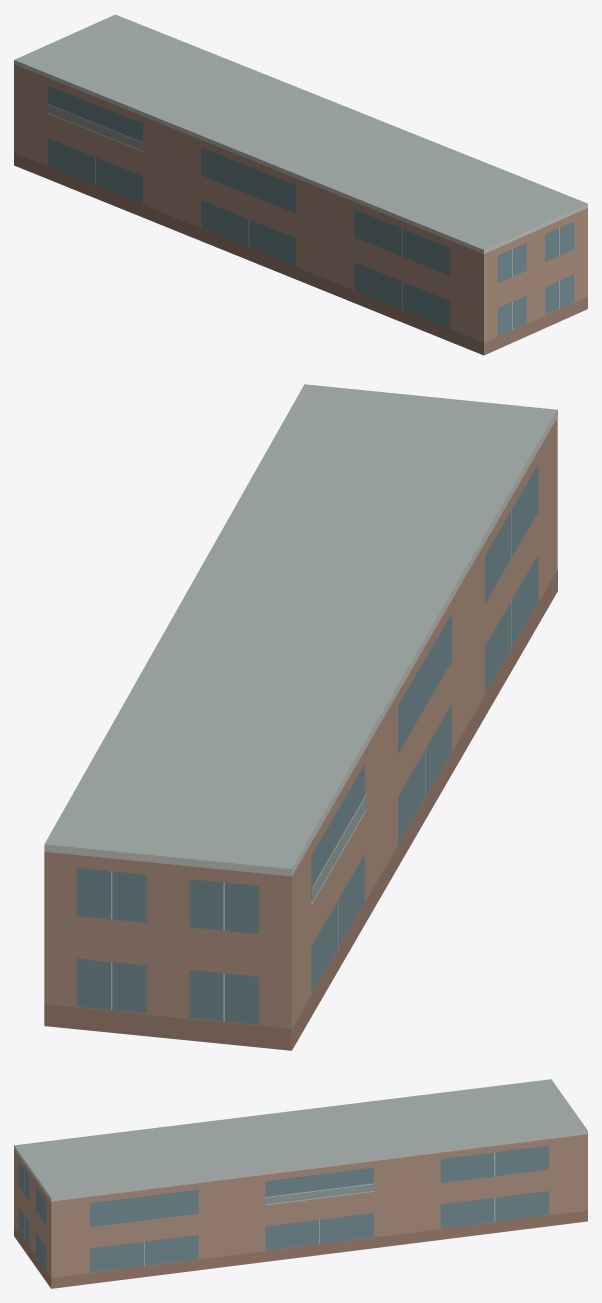
The model's file is survey-upis-32722298.glb.
3 views of the same model, one above another, from view 1: azimuth 30°, elevation 25°; view 2: azimuth 150°, elevation 25°; view 3: azimuth 270°, elevation 25° (orthographic). The views are drawn at different scales.
Parts seen in each view (by area): view 1: survey-upis-32722298.tmp; view 2: survey-upis-32722298.tmp; view 3: survey-upis-32722298.tmp.
Part boxes in pixels (bbox=[...]): survey-upis-32722298.tmp: bbox=[14, 14, 587, 355]; survey-upis-32722298.tmp: bbox=[44, 384, 557, 1050]; survey-upis-32722298.tmp: bbox=[14, 1079, 587, 1288].
Size of the model in its own units: 17.15 by 6.1 by 34.96.
